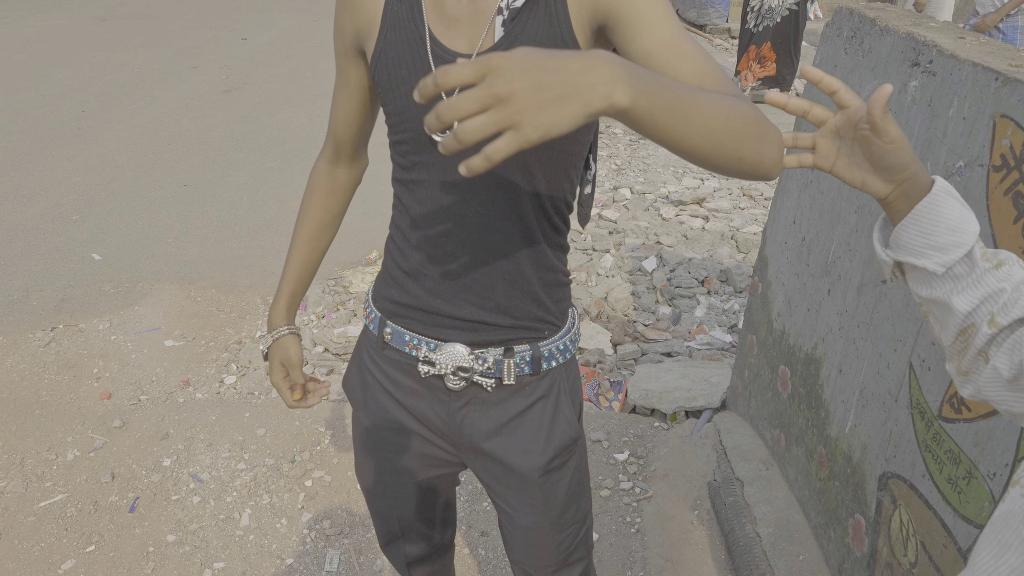garbage: (580, 361, 629, 416)
